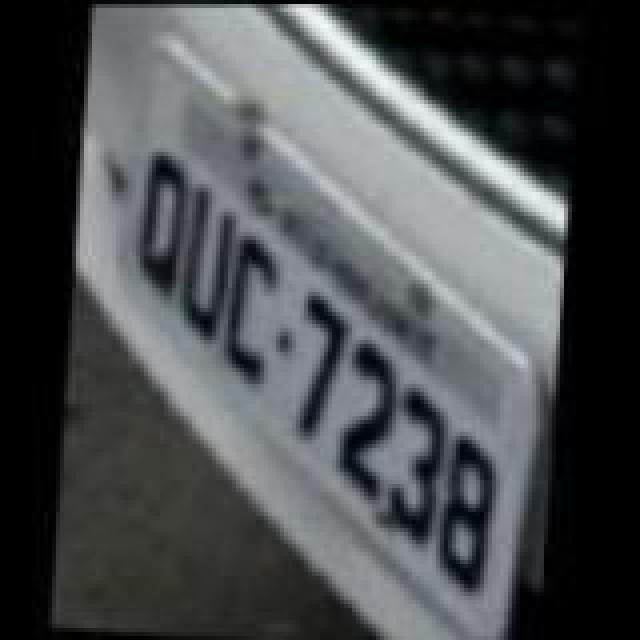2: (338, 342, 410, 506)
3: (382, 386, 458, 546)
7: (292, 290, 356, 438)
8: (432, 434, 508, 598)
C: (214, 230, 290, 386)
Q: (126, 150, 202, 306)
U: (174, 182, 246, 338)
